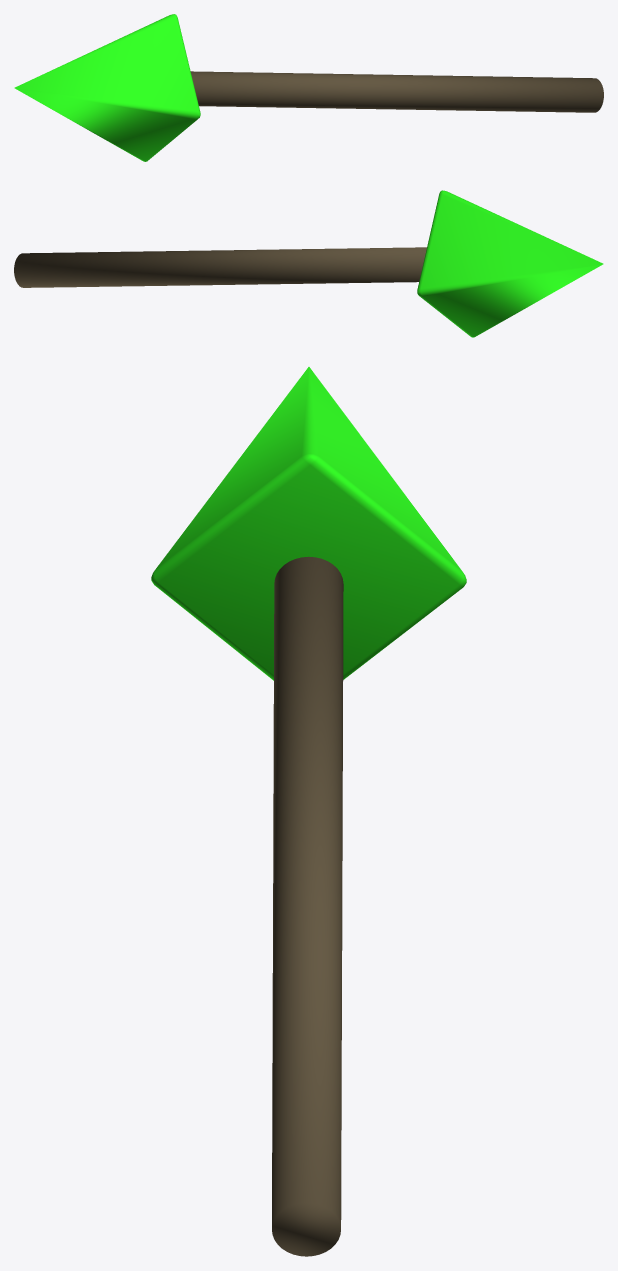
File: Arrow.fbx
3 views of the same model, one above another, from view 1: azimuth 30°, elevation 25°; view 2: azimuth 150°, elevation 25°; view 3: azimuth 270°, elevation 25° (orthographic). The views are drawn at different scales.
Visible parts, largest first — view 1: Arrow; view 2: Arrow; view 3: Arrow.
Boxes of the visible parts, x1,y1,x2,y2 form: Arrow: [14, 14, 603, 161]; Arrow: [14, 190, 603, 337]; Arrow: [151, 367, 466, 1256].
Size of the model in its own units: 4.44 by 1.04 by 1.44.
